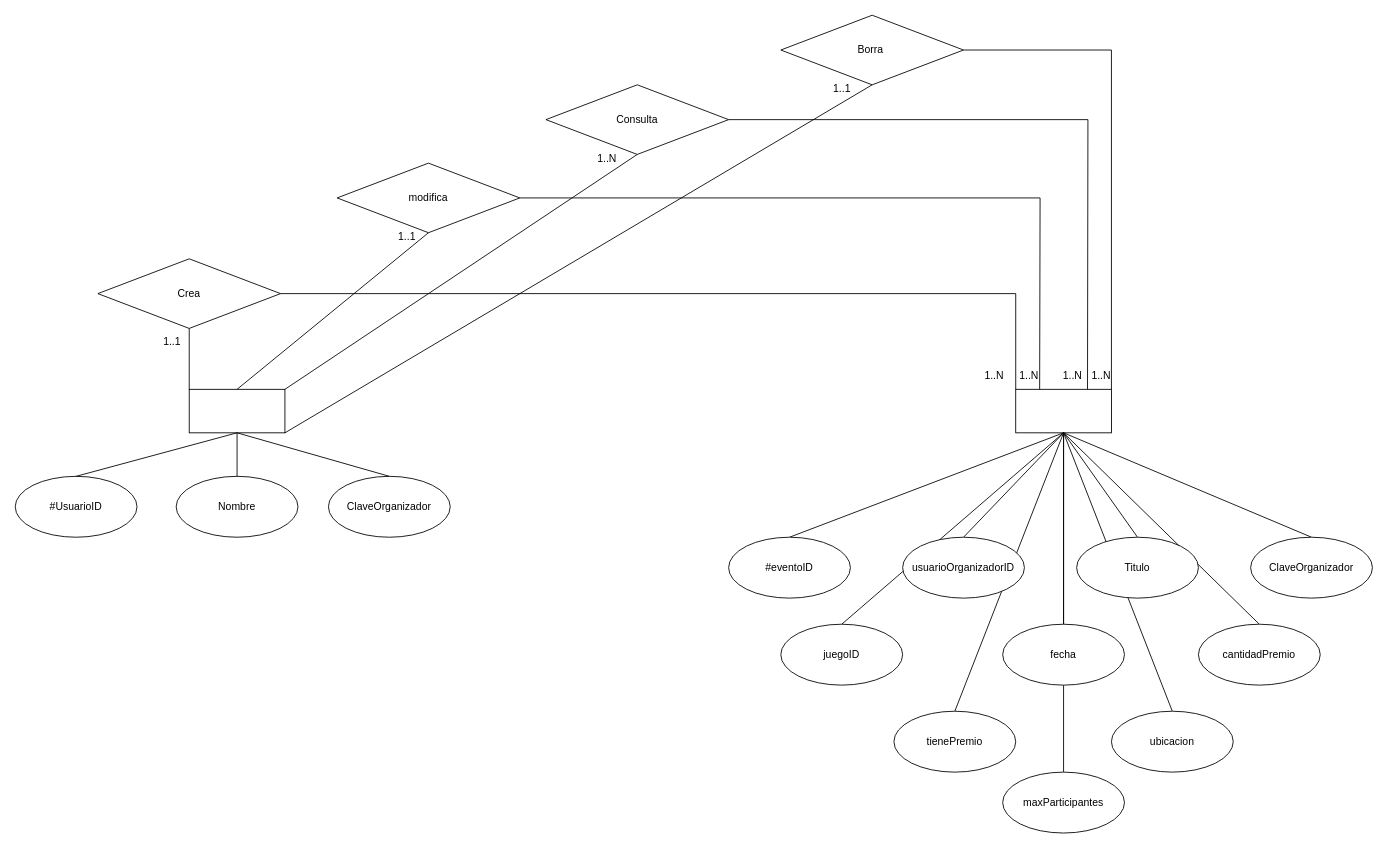
This 1388x848 diagram has some shape labels left out. Here are the shapes that lost their labels. From the top down, the box of each, then its label:
(188, 388, 285, 433): Usuario
(1015, 388, 1111, 433): Evento
